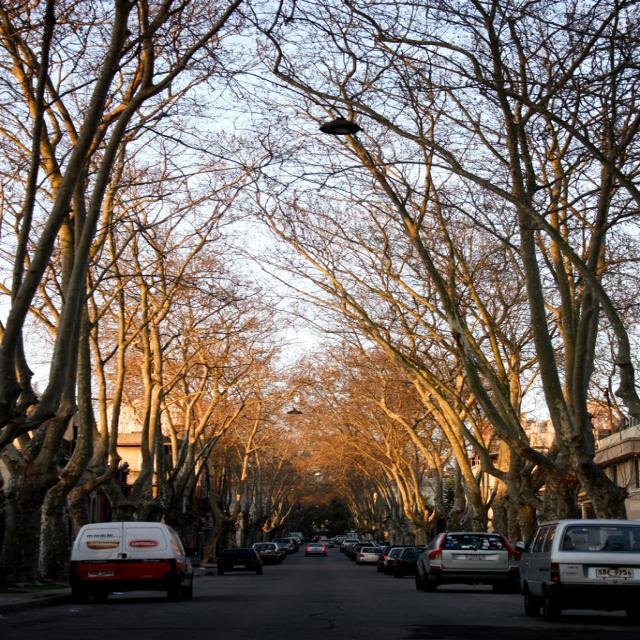car: (413, 530, 518, 598)
